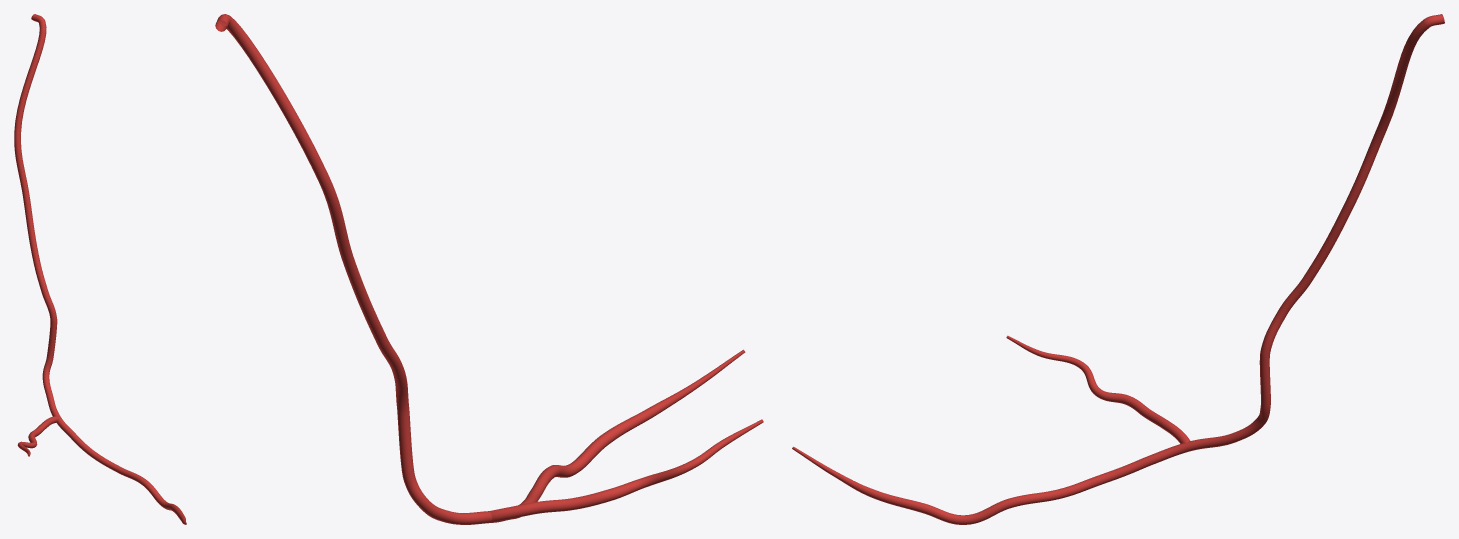
3 renders of one model, left to right at view 1: azimuth 30°, elevation 25°; view 2: azimuth 150°, elevation 25°; view 3: azimuth 270°, elevation 25°, orthographic. The views are drawn at different scales.
Parts seen in each view (by area): view 1: 右侧眶上动脉; view 2: 右侧眶上动脉; view 3: 右侧眶上动脉.
Boxes of the visible parts, bbox=[...] form: 右侧眶上动脉: bbox=[14, 14, 186, 524]; 右侧眶上动脉: bbox=[215, 14, 763, 524]; 右侧眶上动脉: bbox=[792, 14, 1444, 524].
Bounding box in the file's own units: 0.0279 × 0.0608 × 0.0674.
